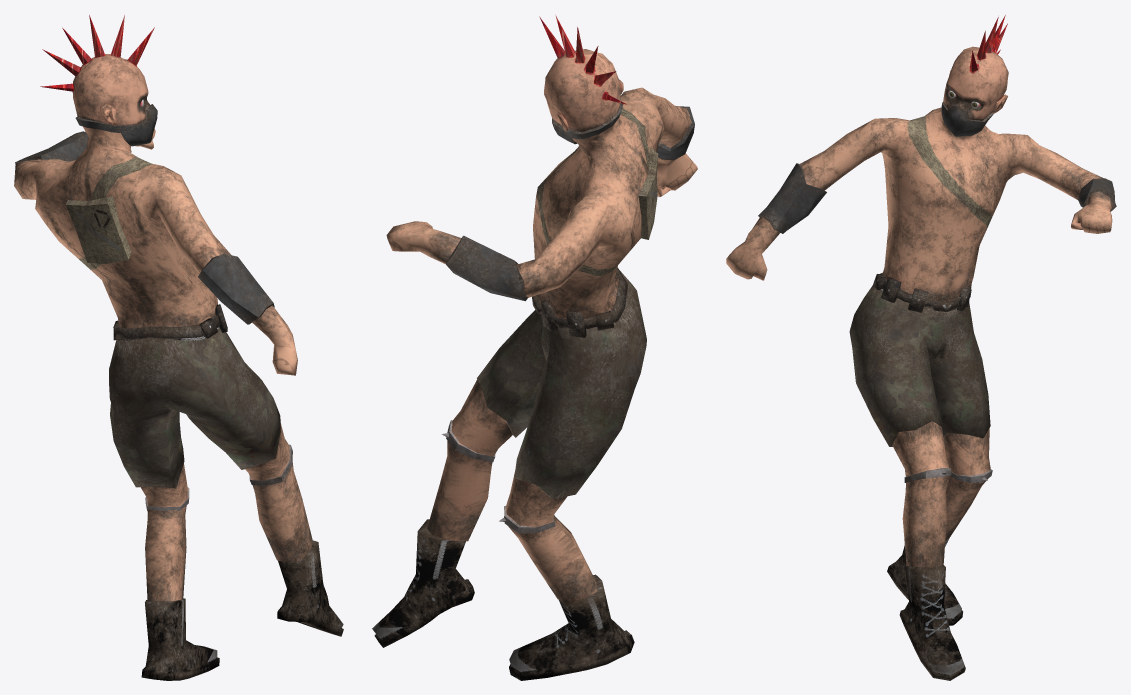
Rendered from Anim_ataque_f1_npc2.0025.obj.
3 renders of one model, left to right at view 1: azimuth 30°, elevation 25°; view 2: azimuth 150°, elevation 25°; view 3: azimuth 270°, elevation 25°, orthographic. The views are drawn at different scales.
Parts seen in each view (by area): view 1: polySurface1; view 2: polySurface1; view 3: polySurface1.
Part boxes in pixels (<box>): polySurface1: <box>14,15,343,680</box>; polySurface1: <box>372,15,697,680</box>; polySurface1: <box>726,15,1116,680</box>.
Bounding box in the file's own units: 4.24 × 9.77 × 6.03.
